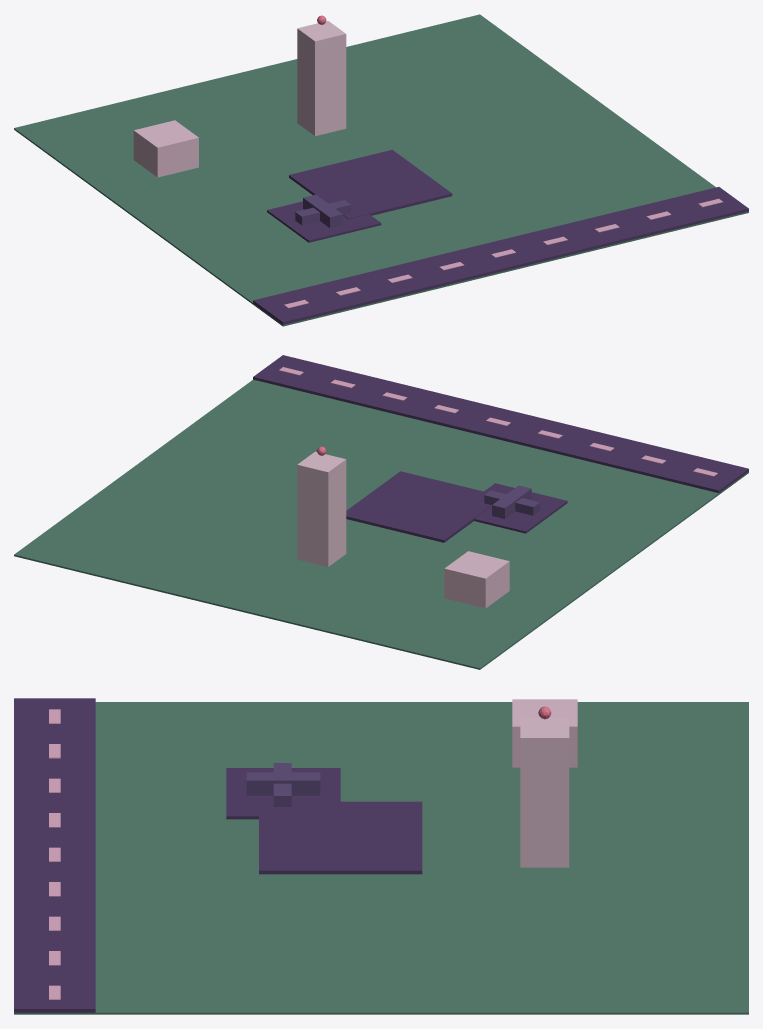
File: stage_04.glb
3 renders of one model, top to bottom at view 1: azimuth 30°, elevation 25°; view 2: azimuth 150°, elevation 25°; view 3: azimuth 270°, elevation 25°, orthographic. The views are drawn at different scales.
Parts seen in each view (by area): view 1: geometry_0; view 2: geometry_0; view 3: geometry_0.
Boxes of the visible parts, x1,y1,x2,y2 form: geometry_0: [14, 14, 748, 326]; geometry_0: [14, 355, 748, 669]; geometry_0: [14, 698, 748, 1014].
Bounding box in the file's own units: 9 × 2.06 × 9.
